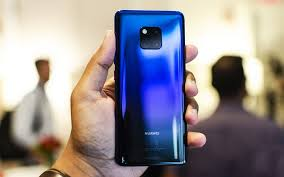huawei: (112, 8, 188, 167)
